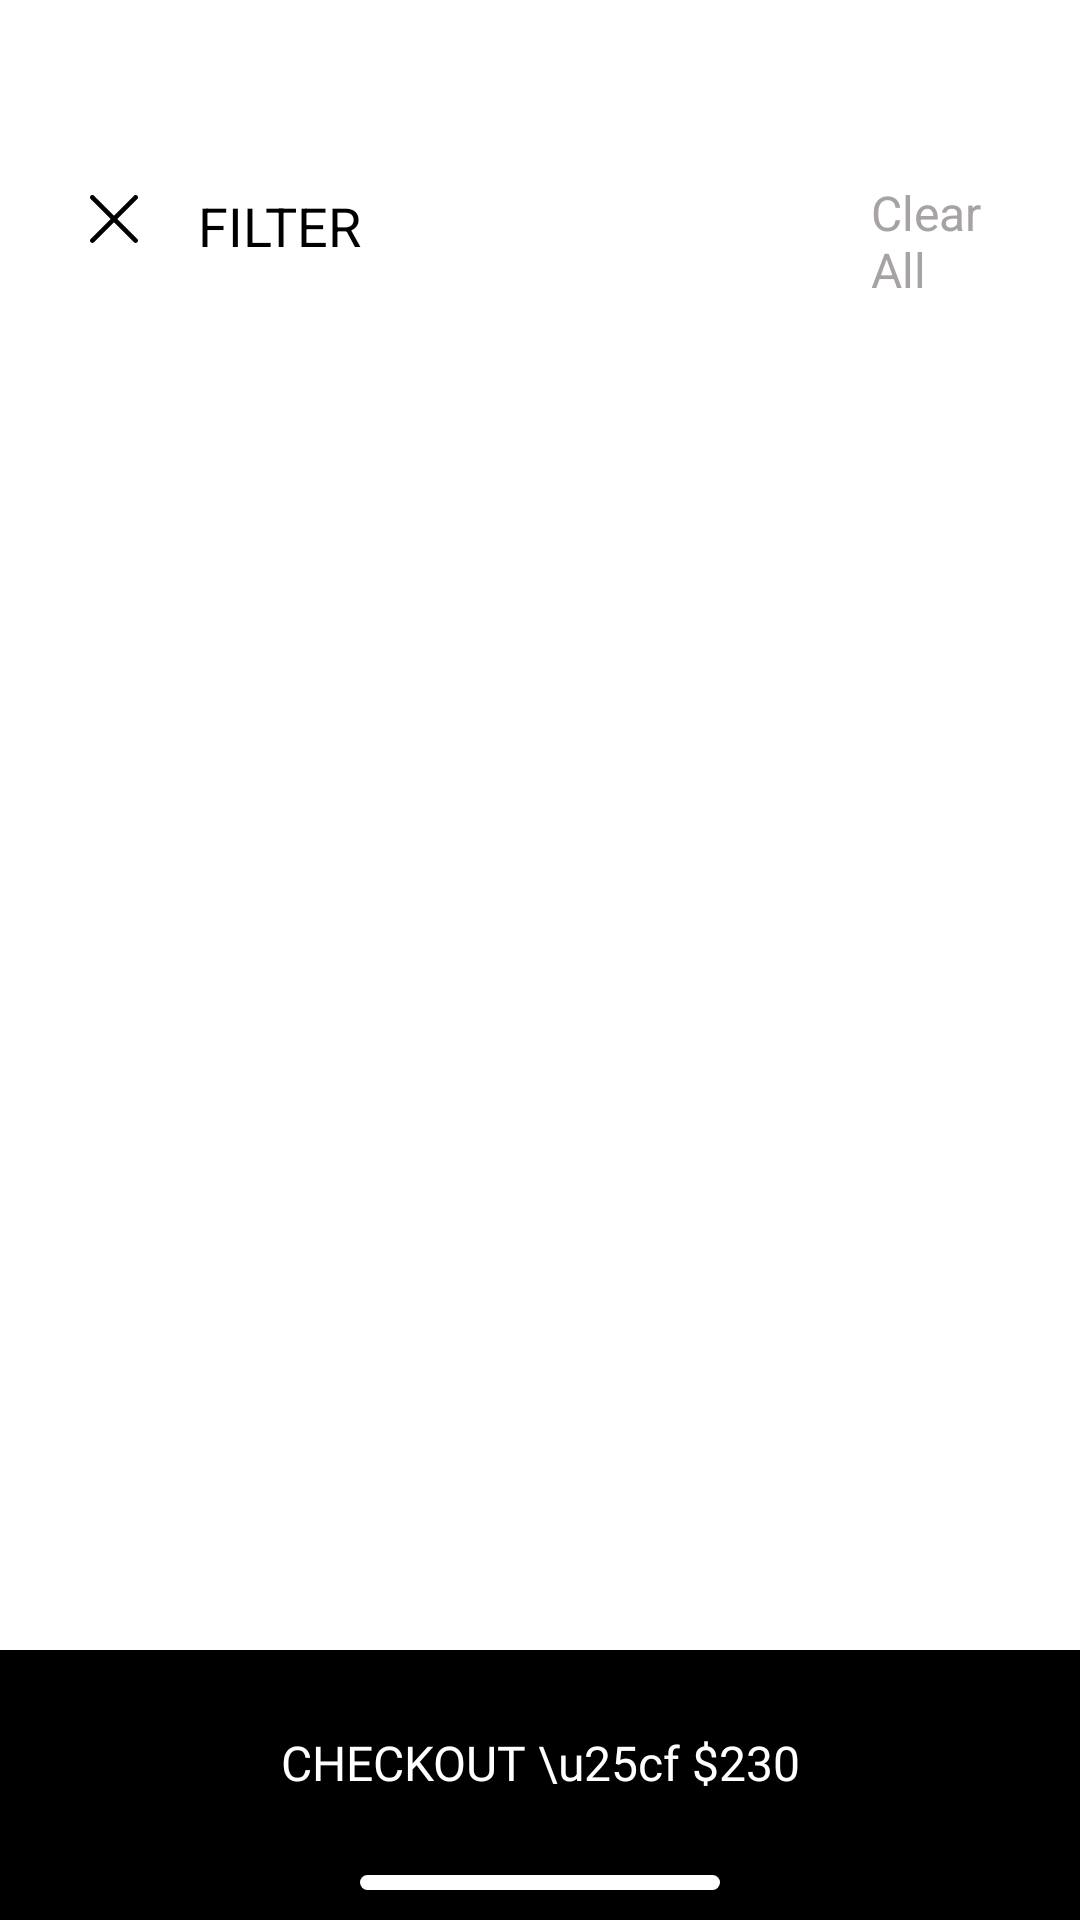

Icons on this 1080 x 1920 Android screen, each with its box as [x1, y1, x2, y2]:
close: [90, 195, 138, 243]
